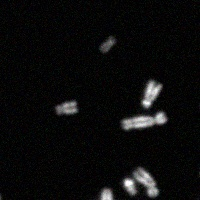chromosome: (121, 112, 166, 130), (133, 167, 158, 196), (142, 80, 162, 108), (55, 102, 77, 115), (99, 36, 114, 54), (122, 178, 137, 196), (192, 178, 200, 200), (101, 188, 115, 200), (0, 191, 1, 200)
